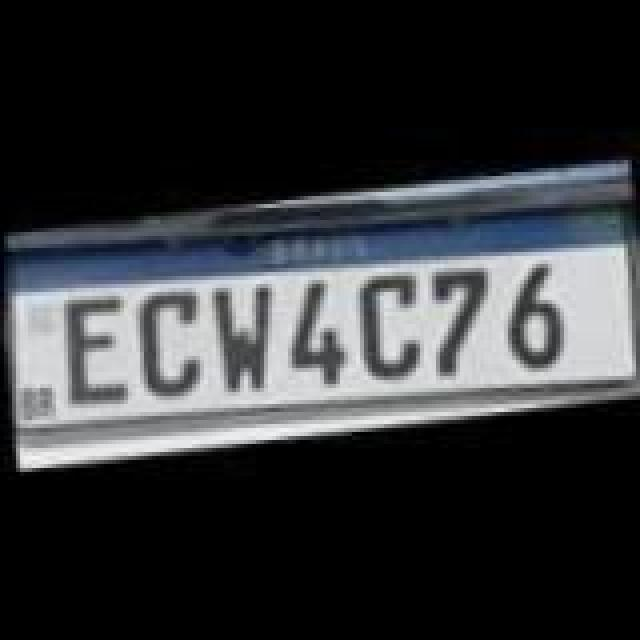4: (274, 272, 354, 392)
6: (488, 254, 572, 382)
7: (414, 256, 502, 380)
C: (124, 274, 216, 398)
D: (342, 264, 430, 388)
E: (54, 284, 138, 408)
W: (202, 272, 290, 400)
